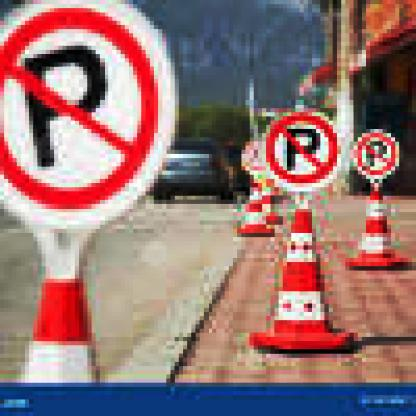No parking: (0, 4, 170, 213), (259, 109, 341, 189), (356, 125, 405, 182)
